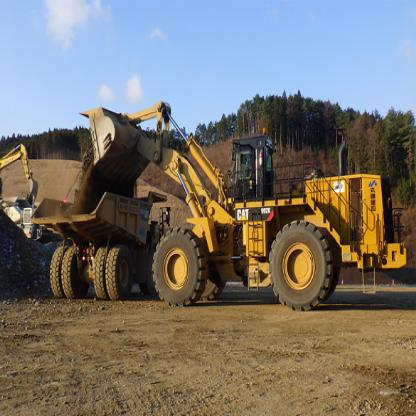bull_dozer/loader/grader: (86, 87, 412, 332)
dump_truck: (32, 189, 165, 316)
